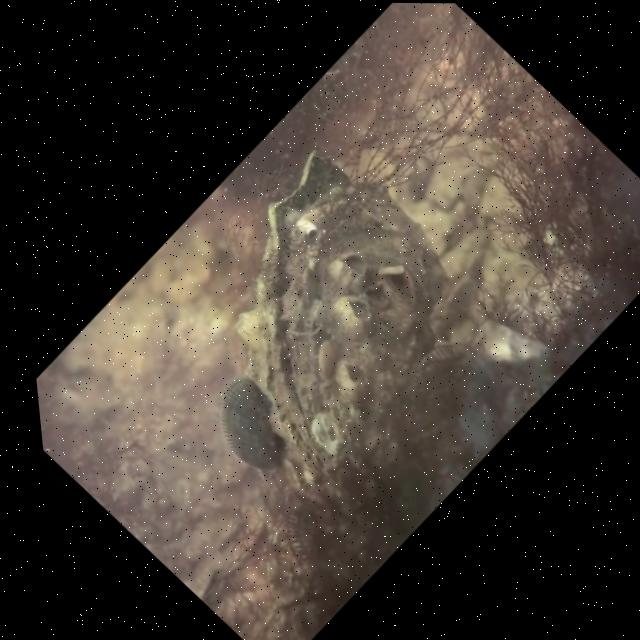Oyster-Closed: (243, 148, 450, 485)
